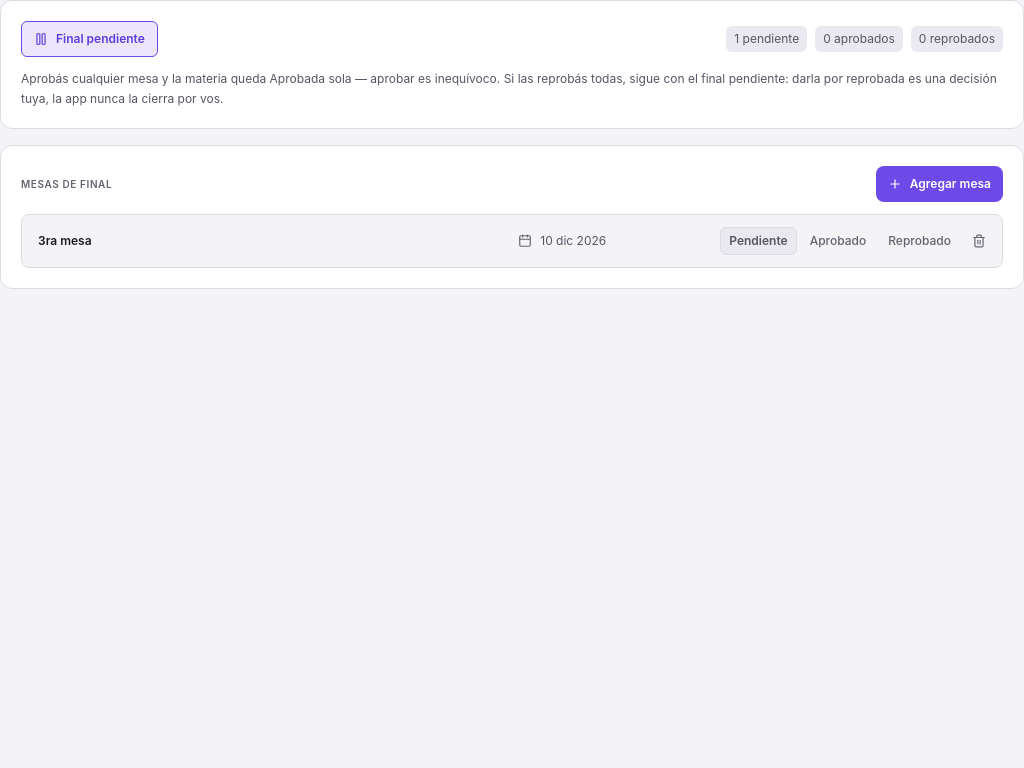
Test case: FinalesContainer — aprobar con nota › opens the modal instead of firing the update under a numeric program
The width and height of the screenshot is (1024, 768).
Click the button "Aprobado". click: click(838, 241)
box: [801,227,875,255]
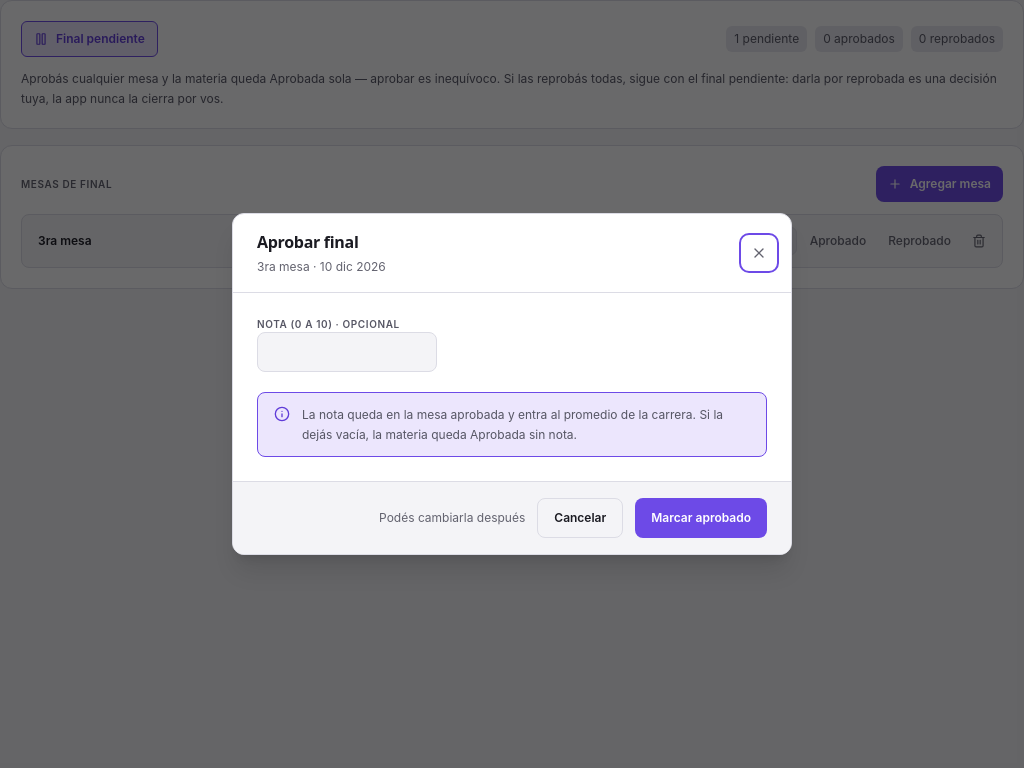
Result: the dialog "Aprobar final" is shown at [232,213,792,555]
